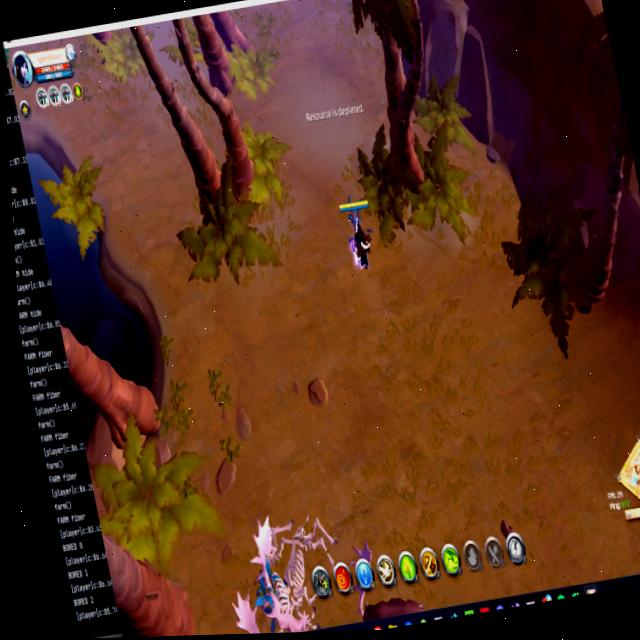red: (336, 194, 384, 277)
